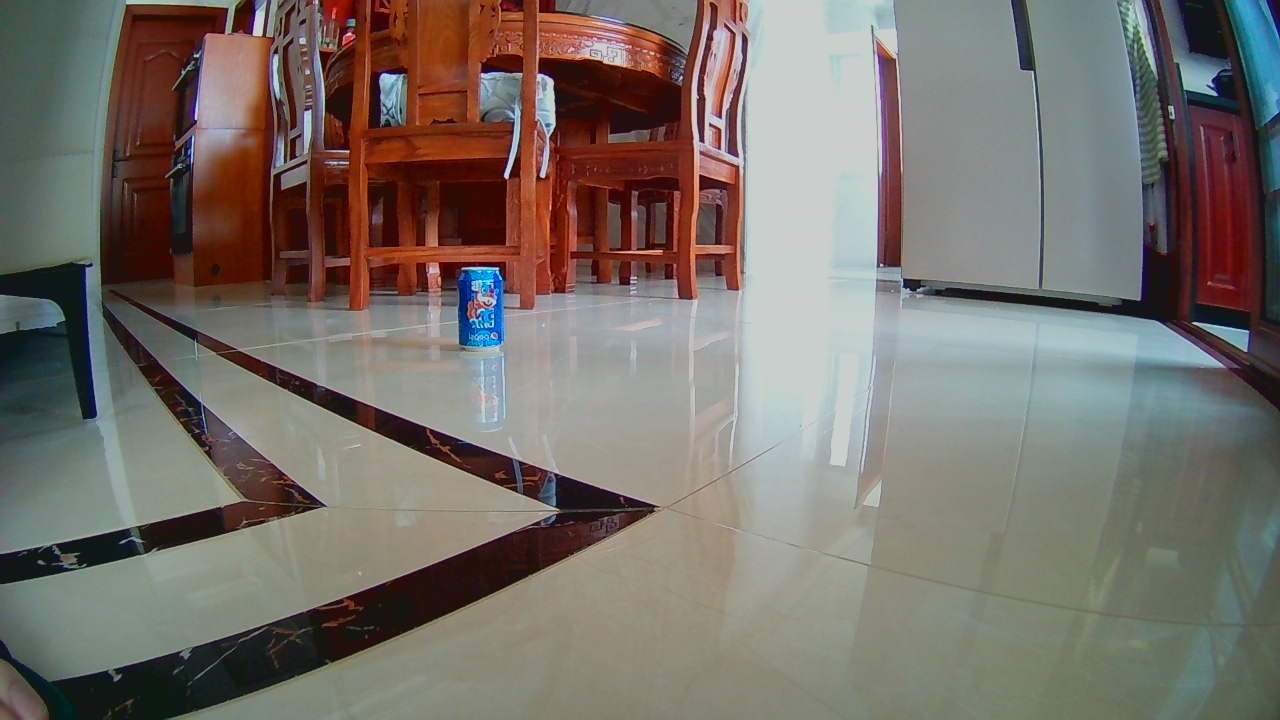pessi: (457, 265, 503, 347)
